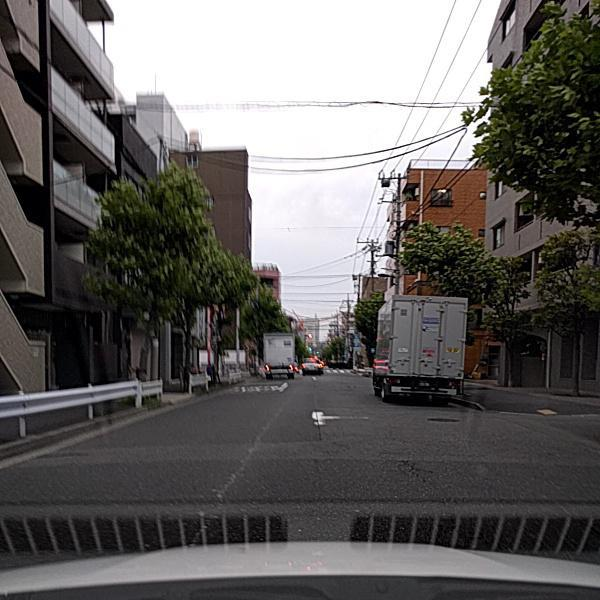D20: (386, 447, 438, 485)
D44: (302, 401, 376, 436)
